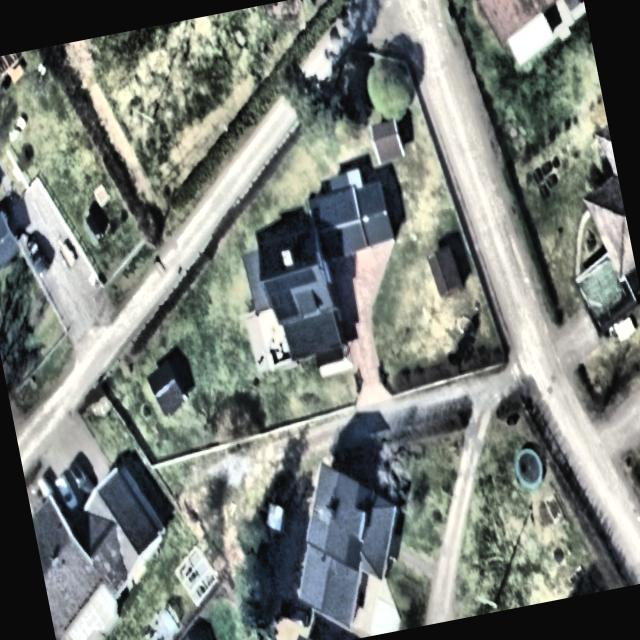roof_pv: (264, 266, 318, 298), (270, 292, 300, 325)
